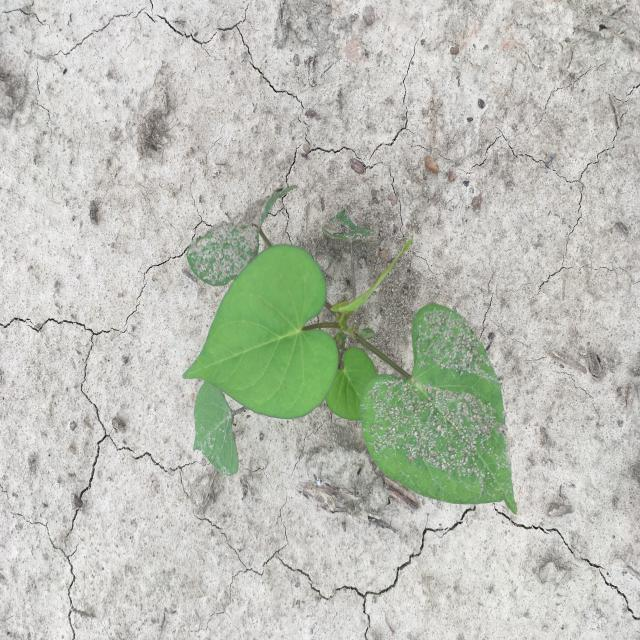MorningGlory: (182, 185, 518, 515)
